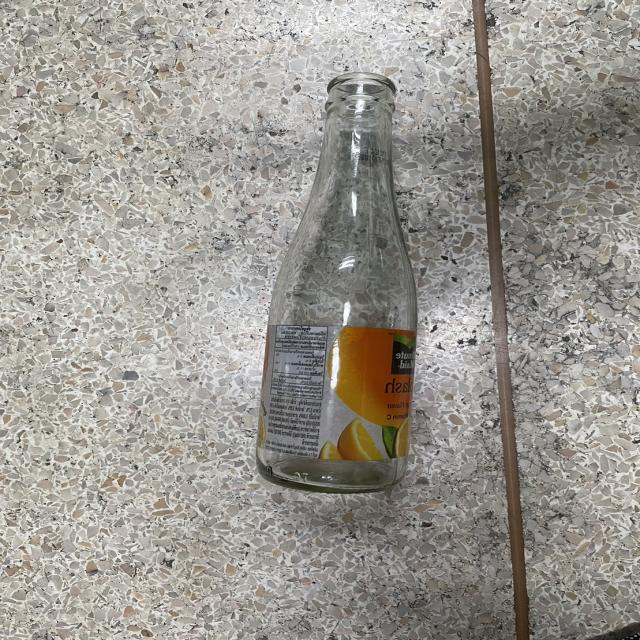glass: (250, 69, 422, 495)
